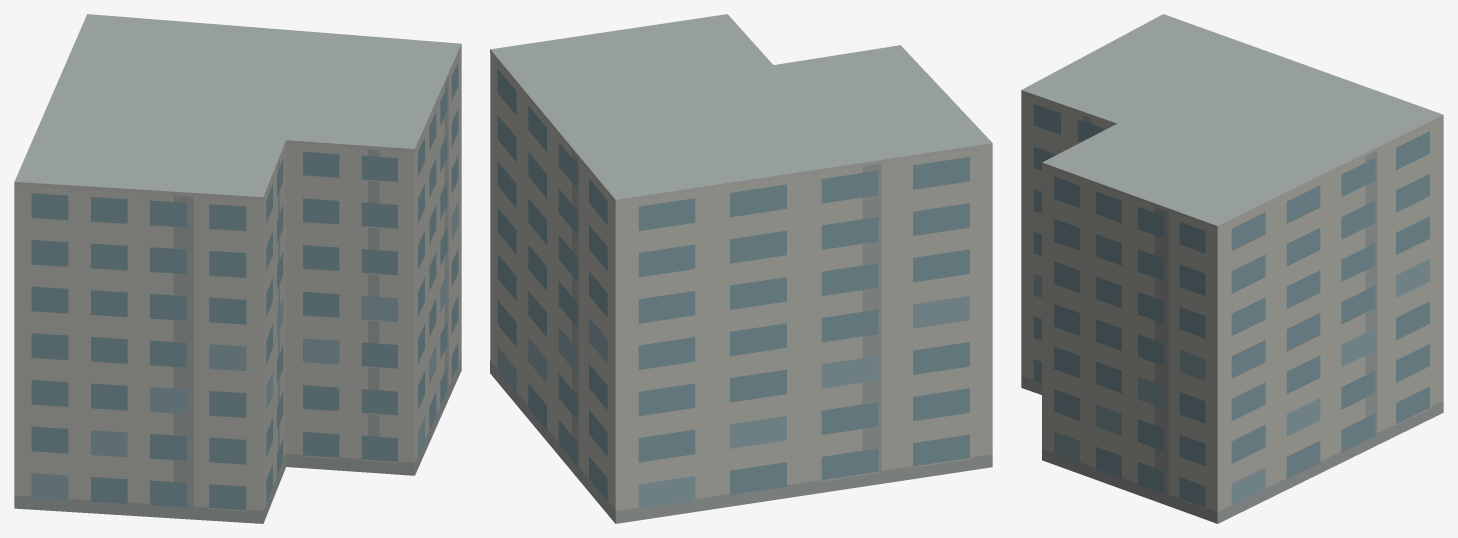
The model's file is residential-d8b1387a-3628-4b1f-9690-25fc80af9933.glb.
3 views of the same model, side by side, from view 1: azimuth 30°, elevation 25°; view 2: azimuth 150°, elevation 25°; view 3: azimuth 270°, elevation 25° (orthographic). The views are drawn at different scales.
Parts seen in each view (by area): view 1: residential-d8b1387a-3628-4b1f-9690-25fc80af9933.tmp; view 2: residential-d8b1387a-3628-4b1f-9690-25fc80af9933.tmp; view 3: residential-d8b1387a-3628-4b1f-9690-25fc80af9933.tmp.
Boxes of the visible parts, <box> form: residential-d8b1387a-3628-4b1f-9690-25fc80af9933.tmp: <box>14,14,461,523</box>; residential-d8b1387a-3628-4b1f-9690-25fc80af9933.tmp: <box>490,14,992,523</box>; residential-d8b1387a-3628-4b1f-9690-25fc80af9933.tmp: <box>1021,14,1443,523</box>.
Size of the model in its own units: 32.62 by 21.35 by 27.46.
